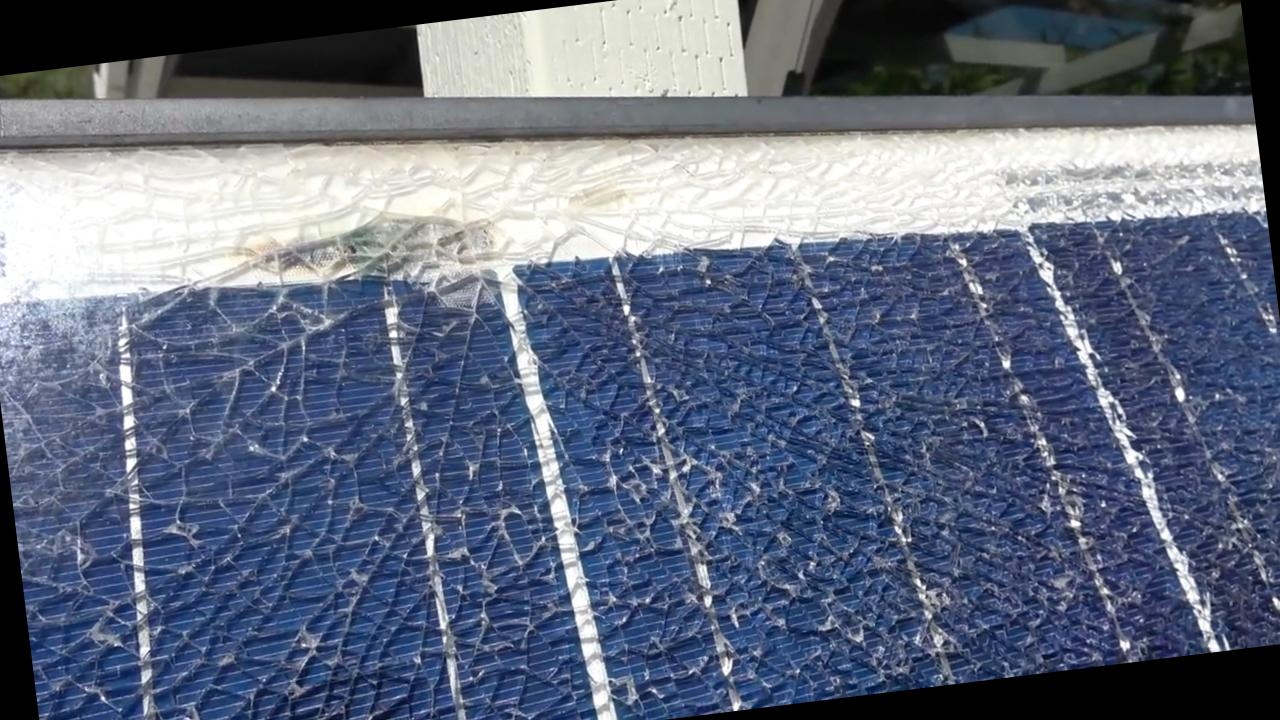Crack: (34, 83, 695, 546)
